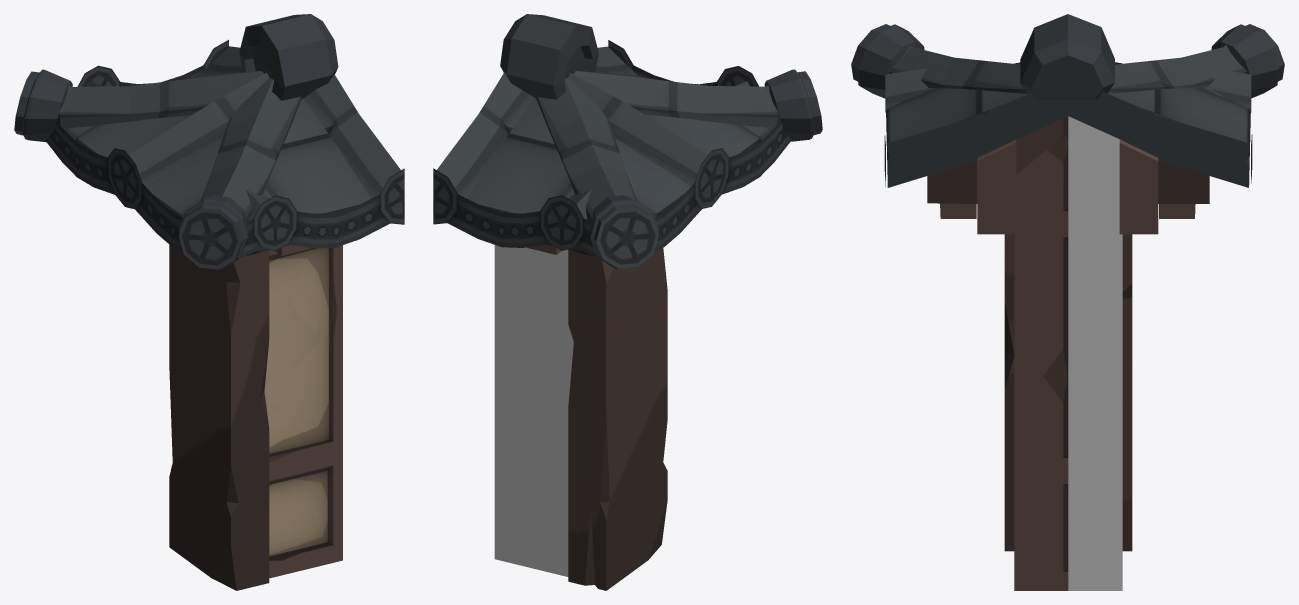
Rendered from SM_Bld_Fence_Dobei_End_01.fbx.
The picture shows the model from 3 angles, left to right: view 1: azimuth 30°, elevation 25°; view 2: azimuth 150°, elevation 25°; view 3: azimuth 270°, elevation 25°; orthographic projection. The views are drawn at different scales.
Parts seen in each view (by area): view 1: SM_Bld_Fence_Dobei_End_01; view 2: SM_Bld_Fence_Dobei_End_01; view 3: SM_Bld_Fence_Dobei_End_01.
Boxes of the visible parts, box(x1,y1,x2,y2) form: SM_Bld_Fence_Dobei_End_01: box(14, 14, 404, 590); SM_Bld_Fence_Dobei_End_01: box(433, 14, 822, 590); SM_Bld_Fence_Dobei_End_01: box(851, 14, 1284, 590).
Bounding box in the file's own units: 135 × 302 × 216.
